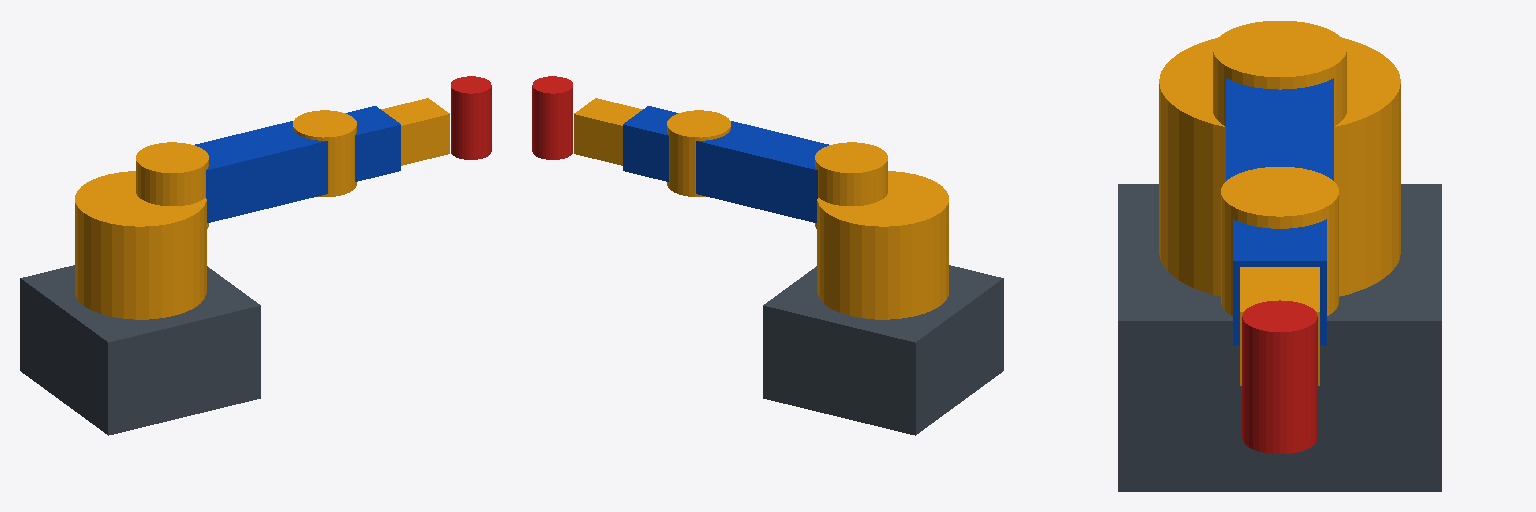
URDF robot description (waybionic_old_arm_prototype):
<?xml version="1.0"?>
<robot name="waybionic_old_arm_prototype">
  <!-- Simplified old-arm prototype. Dimensions are supplied millimetres converted to metres. -->
  <material name="base_gray"><color rgba="0.32 0.36 0.40 1"/></material>
  <material name="arm_blue"><color rgba="0.08 0.35 0.78 1"/></material>
  <material name="joint_yellow"><color rgba="0.95 0.65 0.10 1"/></material>
  <material name="tool_red"><color rgba="0.85 0.18 0.16 1"/></material>

  <link name="base_link">
    <visual>
      <origin xyz="0 0 0.035"/>
      <geometry><box size="0.12 0.12 0.07"/></geometry>
      <material name="base_gray"/>
    </visual>
  </link>

  <link name="base_rotation_link">
    <visual>
      <origin xyz="0 0 0.035"/>
      <geometry><cylinder radius="0.045" length="0.07"/></geometry>
      <material name="joint_yellow"/>
    </visual>
  </link>
  <joint name="base_yaw" type="revolute">
    <parent link="base_link"/>
    <child link="base_rotation_link"/>
    <origin xyz="0 0 0.07"/>
    <axis xyz="0 0 1"/>
    <!-- physical servo range 0..270 deg, zero 33.5 deg, direction +1 -->
    <limit lower="-0.584685" upper="4.127131" effort="10" velocity="2.0"/>
  </joint>

  <link name="upper_arm_link">
    <visual>
      <origin xyz="0.06 0 0"/>
      <geometry><box size="0.12 0.04 0.04"/></geometry>
      <material name="arm_blue"/>
    </visual>
    <visual>
      <origin xyz="0 0 0"/>
      <geometry><cylinder radius="0.025" length="0.05"/></geometry>
      <material name="joint_yellow"/>
    </visual>
  </link>
  <joint name="shoulder" type="revolute">
    <parent link="base_rotation_link"/>
    <child link="upper_arm_link"/>
    <origin xyz="0.025 0 0.07"/>
    <axis xyz="0 1 0"/>
    <!-- physical servo range 0..112.5 deg, zero 112.5 deg, direction -1 -->
    <limit lower="0" upper="1.963495" effort="10" velocity="2.0"/>
  </joint>

  <link name="forearm_link">
    <visual>
      <origin xyz="0.025 0 0"/>
      <geometry><box size="0.05 0.035 0.035"/></geometry>
      <material name="arm_blue"/>
    </visual>
    <visual>
      <origin xyz="0 0 0"/>
      <geometry><cylinder radius="0.022" length="0.045"/></geometry>
      <material name="joint_yellow"/>
    </visual>
  </link>
  <joint name="elbow" type="revolute">
    <parent link="upper_arm_link"/>
    <child link="forearm_link"/>
    <origin xyz="0.12 0 0"/>
    <axis xyz="0 1 0"/>
    <!-- physical servo range 90..270 deg, zero 151.5 deg, direction +1 -->
    <limit lower="-1.073377" upper="2.068215" effort="10" velocity="2.0"/>
  </joint>

  <link name="wrist_link">
    <visual>
      <origin xyz="0.02 0 0"/>
      <geometry><box size="0.04 0.03 0.03"/></geometry>
      <material name="joint_yellow"/>
    </visual>
  </link>
  <joint name="wrist_roll" type="revolute">
    <parent link="forearm_link"/>
    <child link="wrist_link"/>
    <origin xyz="0.05 0 0"/>
    <axis xyz="1 0 0"/>
    <!-- physical servo range 0..270 deg, zero 27.5 deg, direction +1 -->
    <limit lower="-0.479966" upper="4.232083" effort="5" velocity="3.0"/>
  </joint>

  <link name="end_effector">
    <visual>
      <origin xyz="0.025 0 0"/>
      <geometry><cylinder radius="0.014" length="0.05"/></geometry>
      <material name="tool_red"/>
    </visual>
  </link>
  <joint name="wrist_to_end_effector" type="fixed">
    <parent link="wrist_link"/>
    <child link="end_effector"/>
    <origin xyz="0.04 0 0"/>
  </joint>
</robot>

--- Facts derived from the render (not from the file) ---
Views: 3 orthographic renders of the robot side by side, from view 1: azimuth 30°, elevation 25°; view 2: azimuth 150°, elevation 25°; view 3: azimuth 270°, elevation 25°.
Model waybionic_old_arm_prototype with 6 links and 5 joints (4 revolute, 1 fixed), rooted at base_link, posed all joints at 0.
Visible links, largest first — view 1: base_link, base_rotation_link, upper_arm_link, forearm_link, end_effector, wrist_link; view 2: base_link, base_rotation_link, upper_arm_link, forearm_link, end_effector, wrist_link; view 3: base_link, base_rotation_link, upper_arm_link, forearm_link, end_effector, wrist_link.
Link boxes in pixels (x1=…): base_link: x1=20, y1=265, x2=260, y2=435; base_rotation_link: x1=75, y1=171, x2=206, y2=319; upper_arm_link: x1=136, y1=121, x2=327, y2=228; forearm_link: x1=293, y1=106, x2=400, y2=196; end_effector: x1=451, y1=76, x2=491, y2=159; wrist_link: x1=381, y1=98, x2=449, y2=165; base_link: x1=763, y1=265, x2=1003, y2=435; base_rotation_link: x1=817, y1=171, x2=948, y2=319; upper_arm_link: x1=696, y1=121, x2=887, y2=228; forearm_link: x1=623, y1=106, x2=730, y2=196; end_effector: x1=532, y1=76, x2=572, y2=159; wrist_link: x1=574, y1=98, x2=642, y2=165; base_link: x1=1118, y1=184, x2=1441, y2=491; base_rotation_link: x1=1159, y1=38, x2=1400, y2=296; upper_arm_link: x1=1213, y1=21, x2=1346, y2=180; forearm_link: x1=1221, y1=167, x2=1338, y2=345; end_effector: x1=1242, y1=300, x2=1317, y2=453; wrist_link: x1=1240, y1=267, x2=1319, y2=385.
Size in the robot's own frame: 0.334 by 0.12 by 0.165 metres.
Geometry: primitives only (box / cylinder / sphere), no mesh files.
